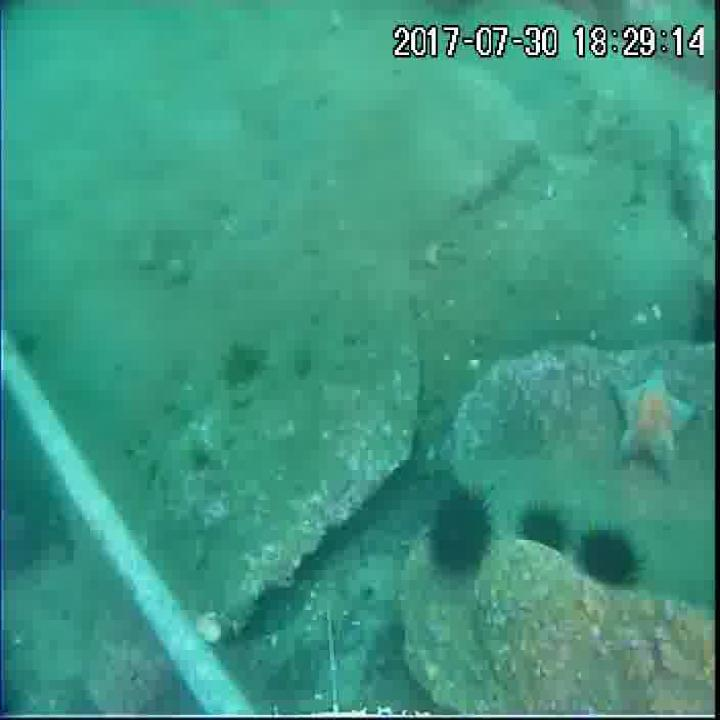echinus: (426, 480, 495, 579), (581, 528, 634, 582), (516, 500, 566, 554)
starfish: (608, 363, 696, 478)
